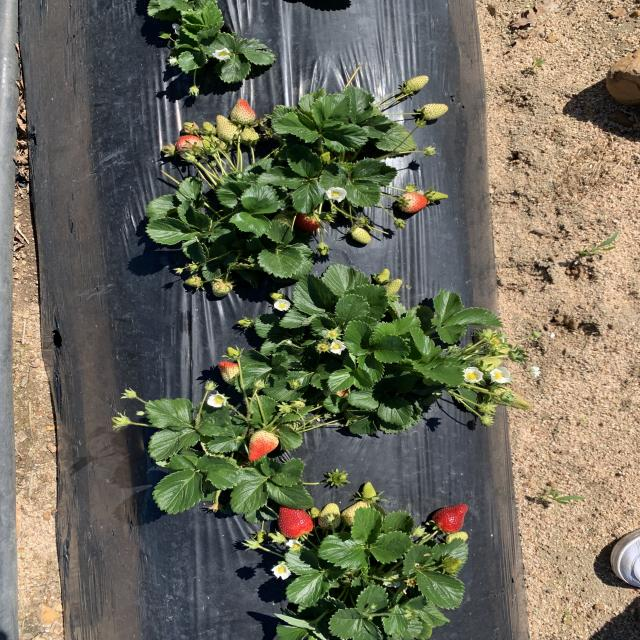unripe: (274, 502, 318, 539), (430, 501, 472, 535), (247, 429, 283, 461), (174, 136, 205, 159), (397, 192, 429, 212), (297, 212, 324, 235)
